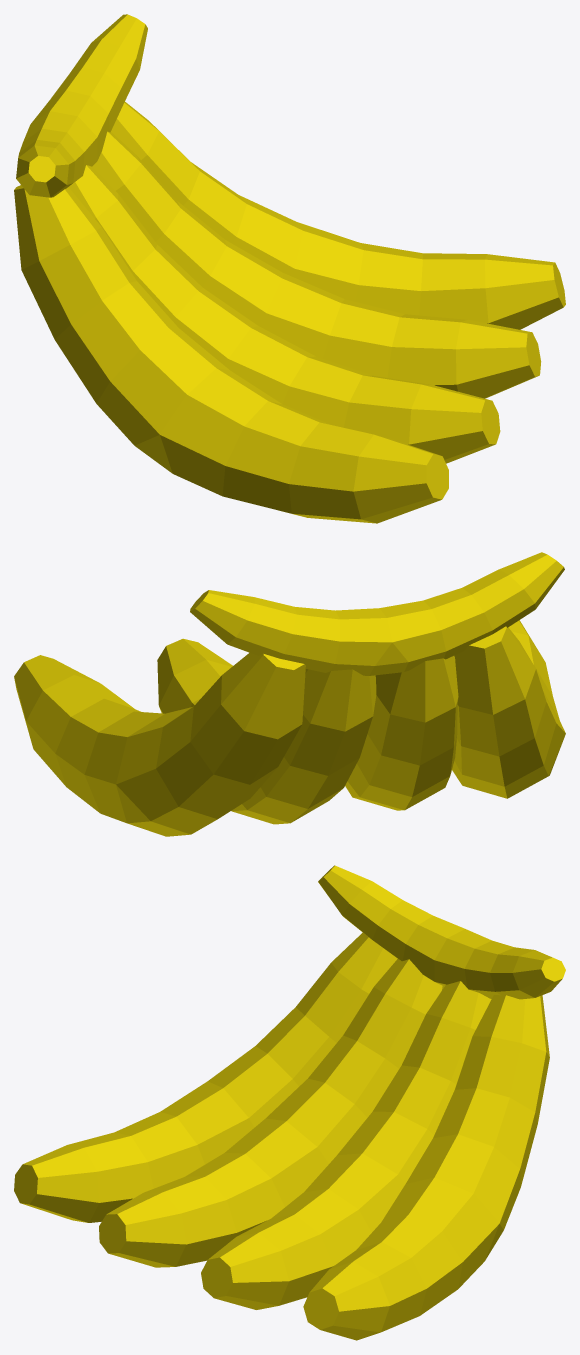
Rendered from banana.fbx.
3 renders of one model, top to bottom at view 1: azimuth 30°, elevation 25°; view 2: azimuth 150°, elevation 25°; view 3: azimuth 270°, elevation 25°, orthographic. The views are drawn at different scales.
Visible parts, largest first — view 1: Cylinder.005; view 2: Cylinder.005; view 3: Cylinder.005.
Part boxes in pixels (x1=…): Cylinder.005: x1=14, y1=14, x2=565, y2=523; Cylinder.005: x1=14, y1=552, x2=565, y2=836; Cylinder.005: x1=14, y1=865, x2=565, y2=1340.
Bounding box in the file's own units: 974 × 555 × 974.
